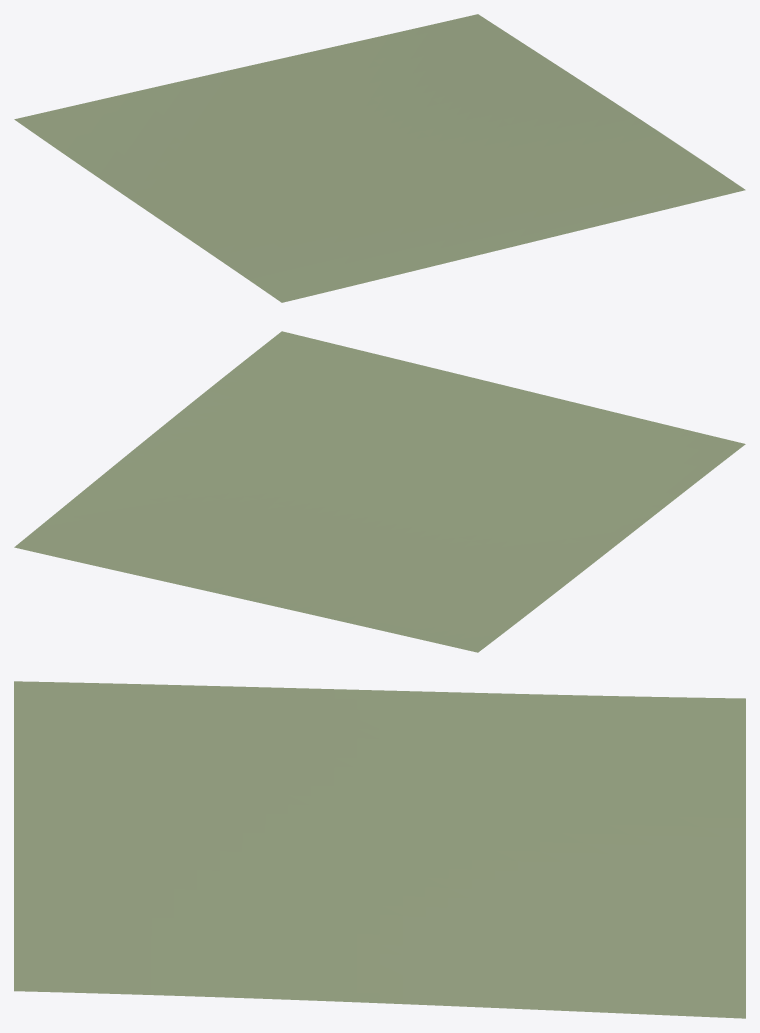
File: expanse-2-25.glb
The picture shows the model from 3 angles, top to bottom: view 1: azimuth 30°, elevation 25°; view 2: azimuth 150°, elevation 25°; view 3: azimuth 270°, elevation 25°; orthographic projection. The views are drawn at different scales.
Visible parts, largest first — view 1: expanse-2-25; view 2: expanse-2-25; view 3: expanse-2-25.
Boxes of the visible parts, x1,y1,x2,y2 form: expanse-2-25: (14, 14, 745, 302); expanse-2-25: (14, 331, 745, 652); expanse-2-25: (14, 681, 745, 1018).
Size of the model in its own units: 256 by 10.81 by 256.
